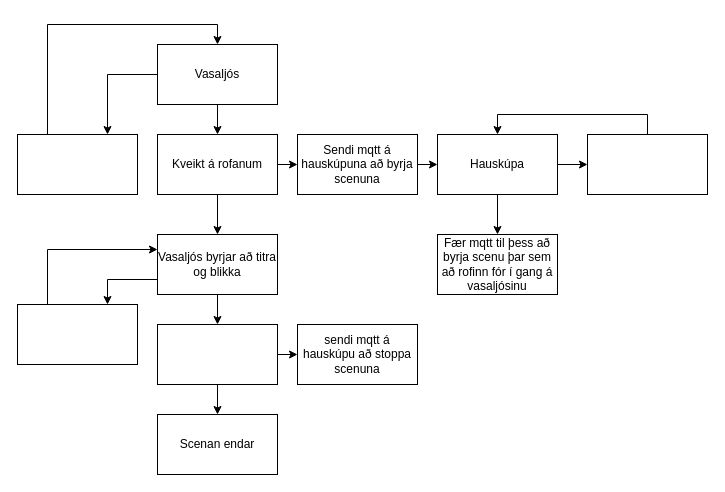
The diagram is 725 pixels wide and 492 high, and some of its shapes have lost their labels. The centre of each missing label's shape, as x and y in pixels:
"3 sekúndur eru búnar að líða" goes at (217,354).
"Ekki kveikt á rofanum" goes at (77,164).
"Fær ekki mqtt skilaboð" goes at (647,164).
"Minna en 3 sek" goes at (77,334).
